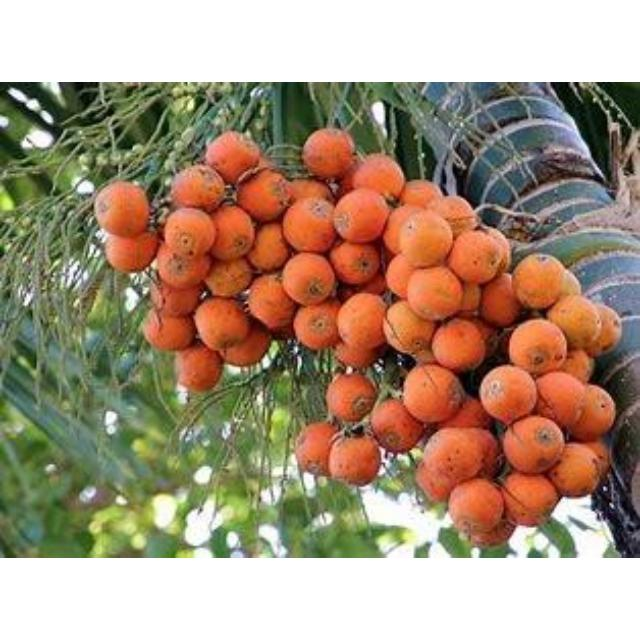good: (420, 429, 488, 491), (402, 364, 461, 422), (503, 416, 562, 474), (479, 366, 535, 424), (94, 182, 150, 240), (332, 188, 388, 244), (508, 320, 564, 376), (194, 298, 250, 354), (446, 480, 504, 534), (282, 196, 336, 252), (398, 212, 452, 268), (548, 294, 602, 350), (534, 372, 586, 430), (337, 292, 388, 350), (371, 400, 425, 454), (448, 231, 504, 283), (406, 268, 462, 320), (512, 256, 568, 308), (206, 131, 262, 183), (433, 319, 487, 371), (383, 302, 435, 356), (502, 474, 558, 524), (237, 170, 290, 222), (163, 209, 215, 261), (328, 434, 380, 486), (282, 258, 340, 304), (302, 129, 354, 179), (549, 445, 599, 497), (569, 386, 615, 442), (247, 276, 296, 328), (324, 374, 374, 424), (210, 207, 256, 261), (172, 165, 224, 212), (157, 243, 210, 289), (351, 154, 404, 200), (292, 303, 341, 351), (296, 422, 338, 478), (104, 232, 158, 274), (153, 278, 204, 320), (330, 242, 380, 284), (143, 311, 193, 353), (482, 274, 522, 326), (176, 348, 222, 392), (220, 327, 270, 367), (206, 260, 254, 300), (248, 225, 288, 272), (416, 460, 458, 504), (440, 396, 490, 432), (432, 194, 476, 234), (386, 253, 416, 297), (399, 180, 438, 210), (283, 178, 327, 204), (559, 350, 593, 382), (149, 280, 169, 312)
